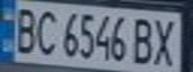4: (93, 11, 115, 61)
5: (75, 9, 96, 60)
6: (109, 12, 133, 63), (57, 8, 81, 59)
B: (9, 3, 39, 55), (130, 14, 160, 65)
C: (30, 7, 60, 56)
X: (148, 15, 184, 67)
